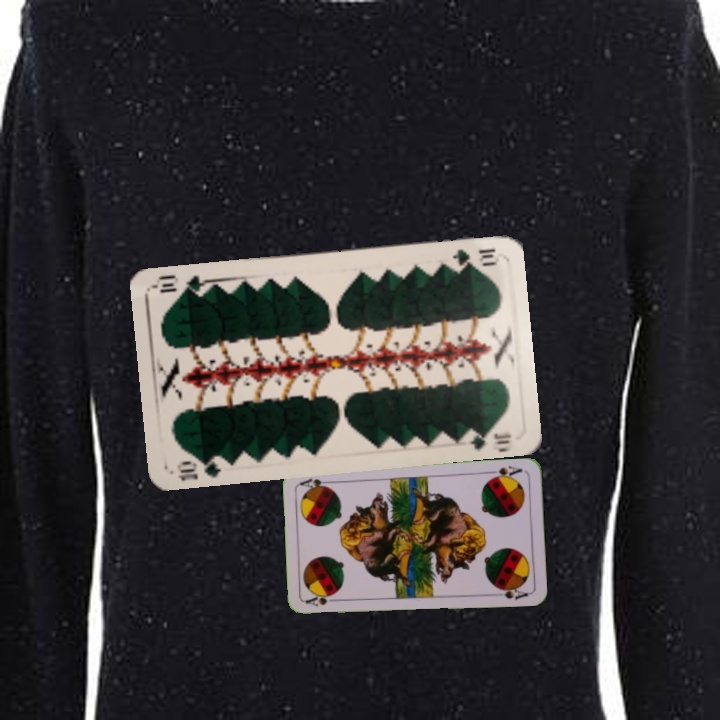G10: (173, 452, 229, 483), (449, 244, 499, 269)
SA: (485, 462, 525, 482), (302, 590, 343, 609)
